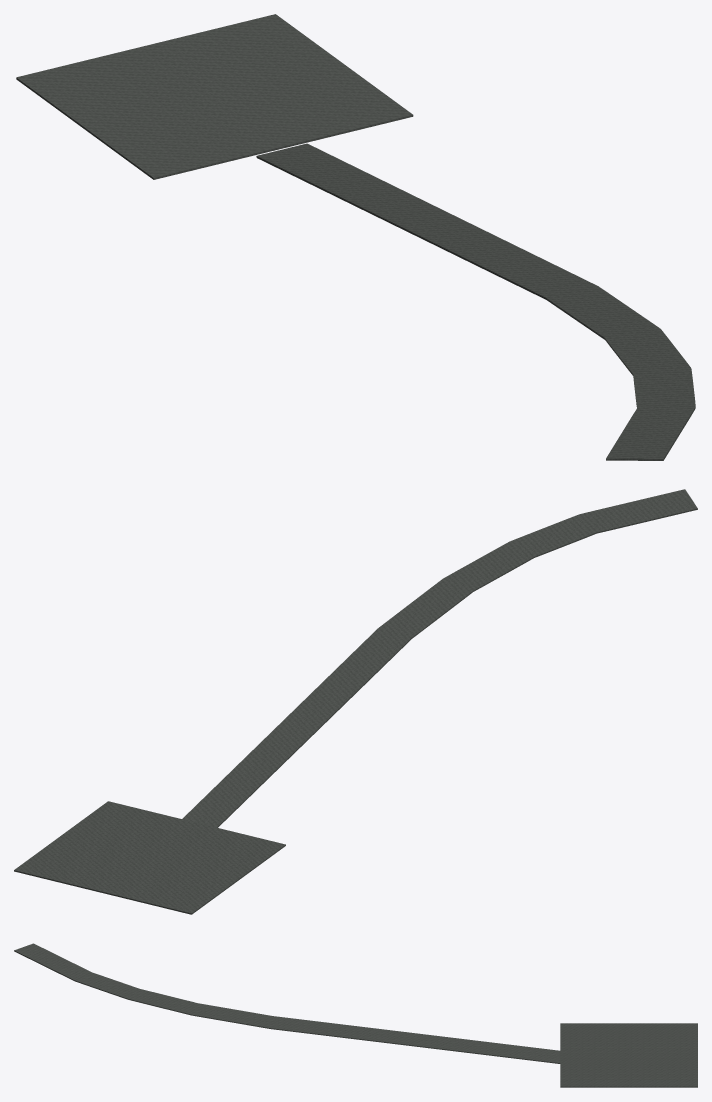
File: PL_C_Removable_Roofs.fbx
3 views of the same model, one above another, from view 1: azimuth 30°, elevation 25°; view 2: azimuth 150°, elevation 25°; view 3: azimuth 270°, elevation 25° (orthographic). The views are drawn at different scales.
Parts seen in each view (by area): view 1: PL_C_ChamberRoof, PL_C_TunnelRoof; view 2: PL_C_TunnelRoof, PL_C_ChamberRoof; view 3: PL_C_ChamberRoof, PL_C_TunnelRoof.
Boxes of the visible parts, left/top/right/bottom form: PL_C_ChamberRoof: left=16, top=14, right=413, bottom=179; PL_C_TunnelRoof: left=256, top=143, right=695, bottom=460; PL_C_TunnelRoof: left=182, top=489, right=697, bottom=827; PL_C_ChamberRoof: left=14, top=801, right=285, bottom=914; PL_C_ChamberRoof: left=560, top=1023, right=697, bottom=1087; PL_C_TunnelRoof: left=14, top=943, right=560, bottom=1063.
Bounding box in the file's own units: 6310 × 2424 × 22368.
1 material, 1 textured.
